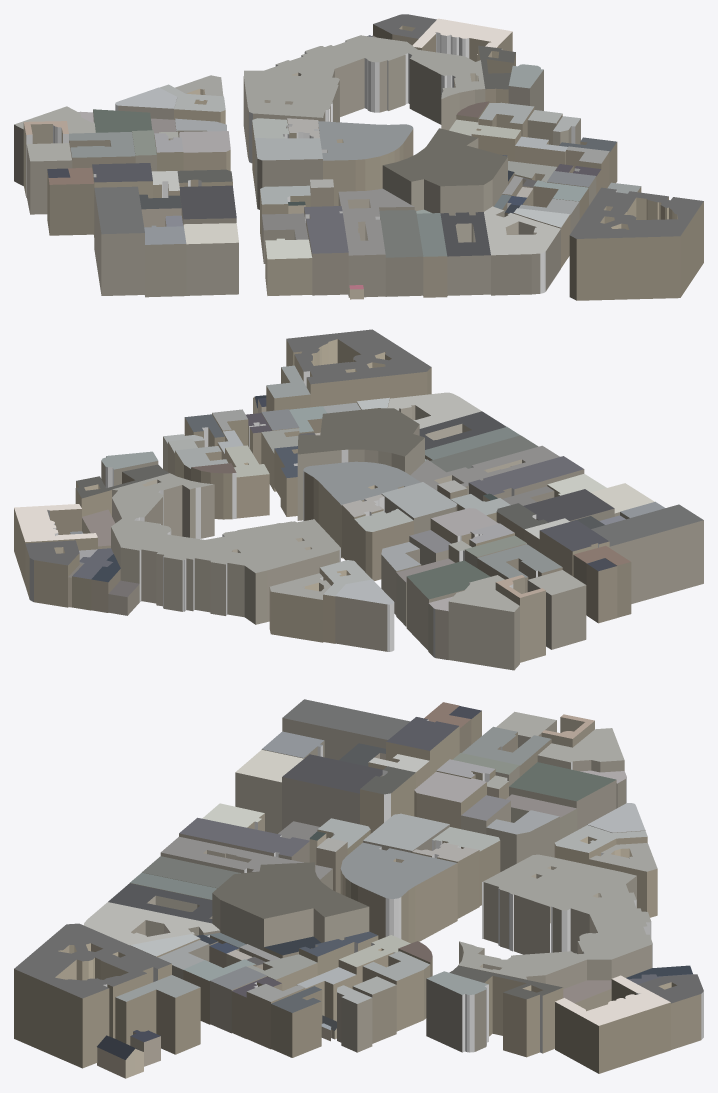
3 renders of one model, top to bottom at view 1: azimuth 30°, elevation 25°; view 2: azimuth 150°, elevation 25°; view 3: azimuth 270°, elevation 25°, orthographic. The views are drawn at different scales.
Parts seen in each view (by area): view 1: tuile; view 2: tuile; view 3: tuile.
Boxes of the visible parts, left/top/right/bottom form: tuile: left=14, top=14, right=703, bottom=300; tuile: left=14, top=329, right=703, bottom=670; tuile: left=14, top=699, right=703, bottom=1078.
Size of the model in its own units: 281 by 43.86 by 274.
